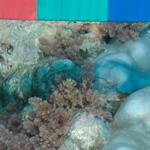alive: (2, 23, 147, 148)
